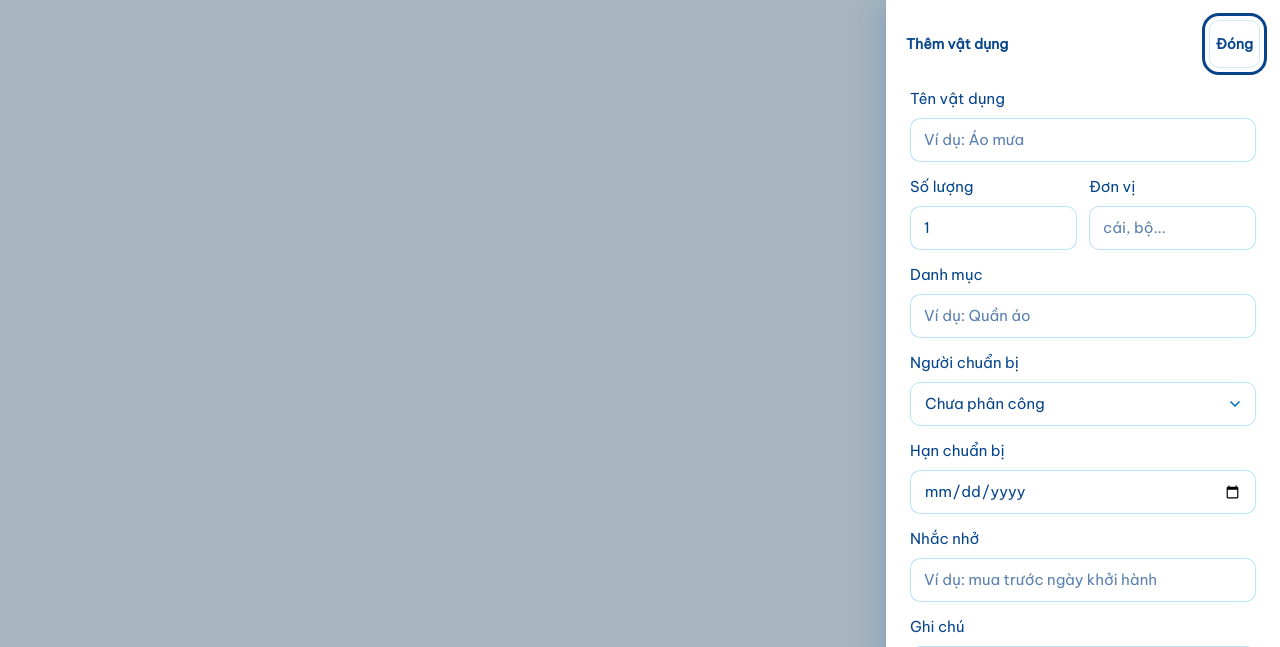
Test: Packing drawer suggestions › opens item suggestions, selects a default and fills its category
Step 1. Click the dropdown labelled "Tên vật dụng" → (1083, 140), box [924,118,1242,162]
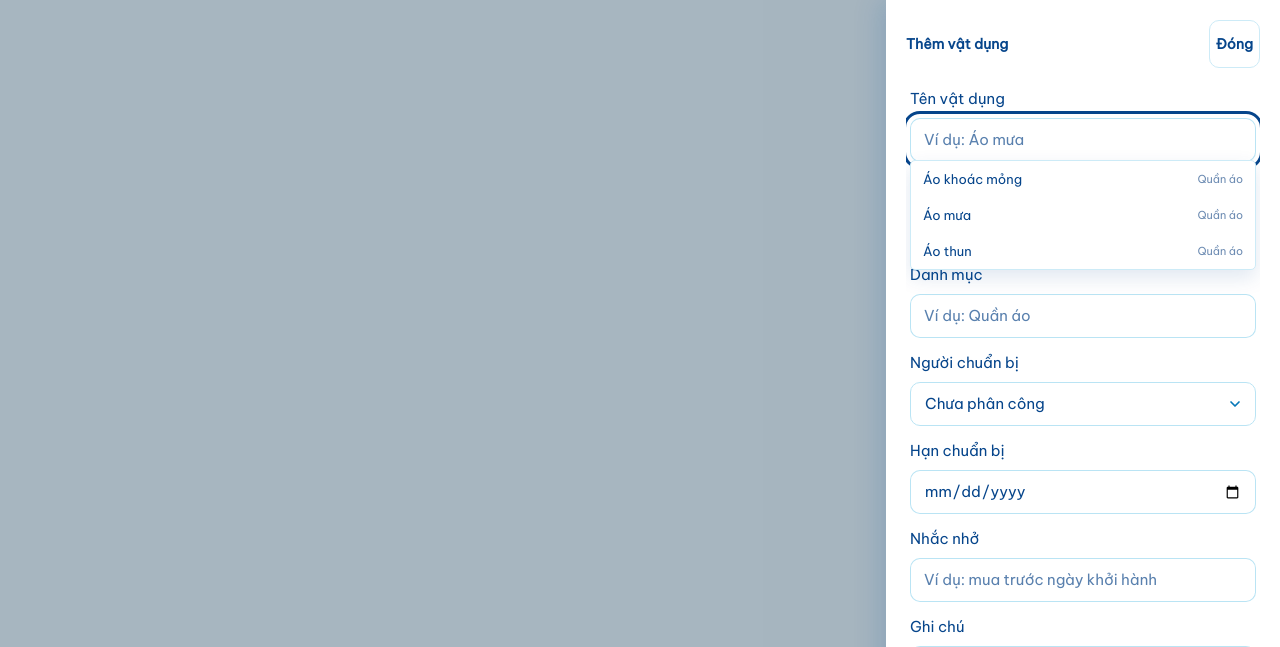
Now the list is shown, box [910,160,1256,270]
Step 2. Click the option "Áo mưa Quần áo" → (947, 215), box [923,207,1243,223]
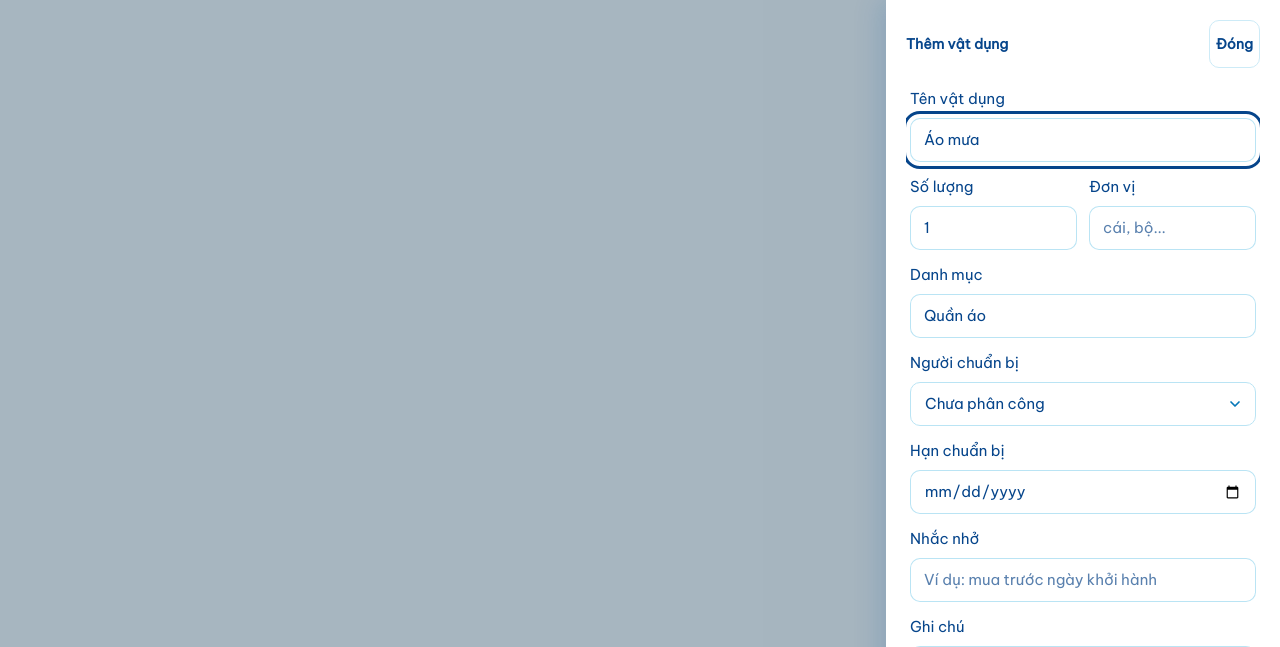
Now the dropdown labelled "Tên vật dụng" holds "Áo mưa", box [924,118,1242,162]
Now the dropdown labelled "Danh mục" holds "Quần áo", box [924,294,1242,338]
